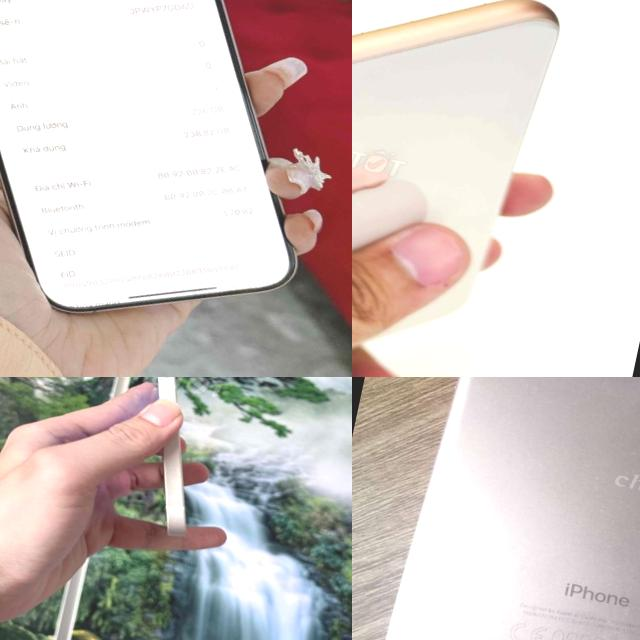gen_14: (82, 377, 250, 550)
gen_16: (0, 0, 294, 311)
gen_7_8: (352, 0, 574, 368), (369, 377, 640, 640)
